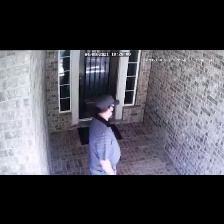person: (89, 96, 120, 174)
